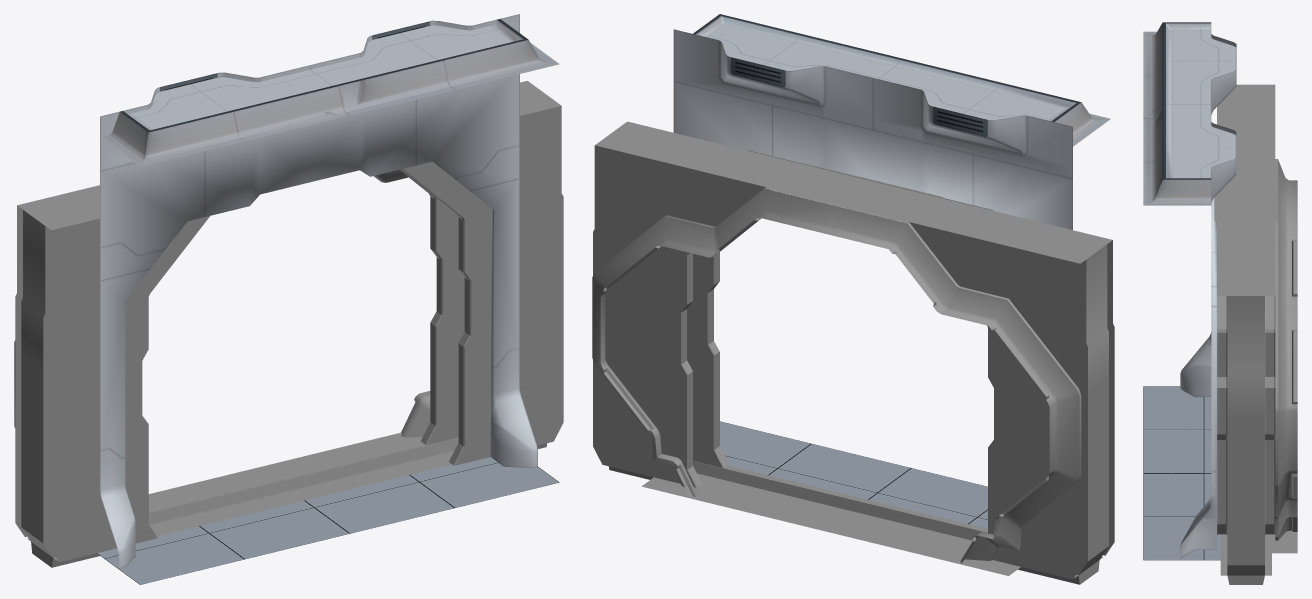
File: Room_Corr_end.fbx
3 views of the same model, side by side, from view 1: azimuth 30°, elevation 25°; view 2: azimuth 150°, elevation 25°; view 3: azimuth 270°, elevation 25° (orthographic). The views are drawn at different scales.
Parts seen in each view (by area): view 1: Room_Corr_end; view 2: Room_Corr_end; view 3: Room_Corr_end.
Part boxes in pixels (x1,y1,x2,y2): Room_Corr_end: (14, 14, 563, 584); Room_Corr_end: (592, 14, 1114, 584); Room_Corr_end: (1143, 22, 1297, 584).
Size of the model in its own units: 490 by 410 by 150.
7 materials, 3 textured.
